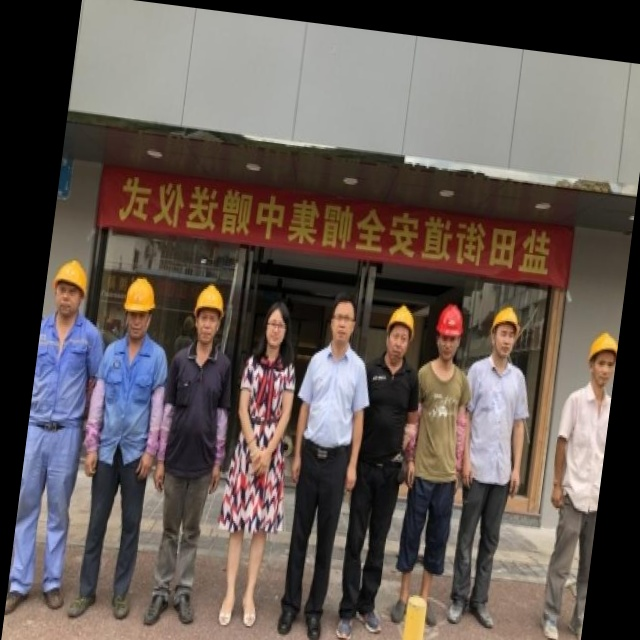Con_Casco: (188, 282, 229, 346)
Sin_Casco_Mascarrilla: (327, 293, 361, 350)
Sin_Chaleco: (158, 337, 235, 466), (295, 344, 371, 454), (231, 341, 302, 454)
